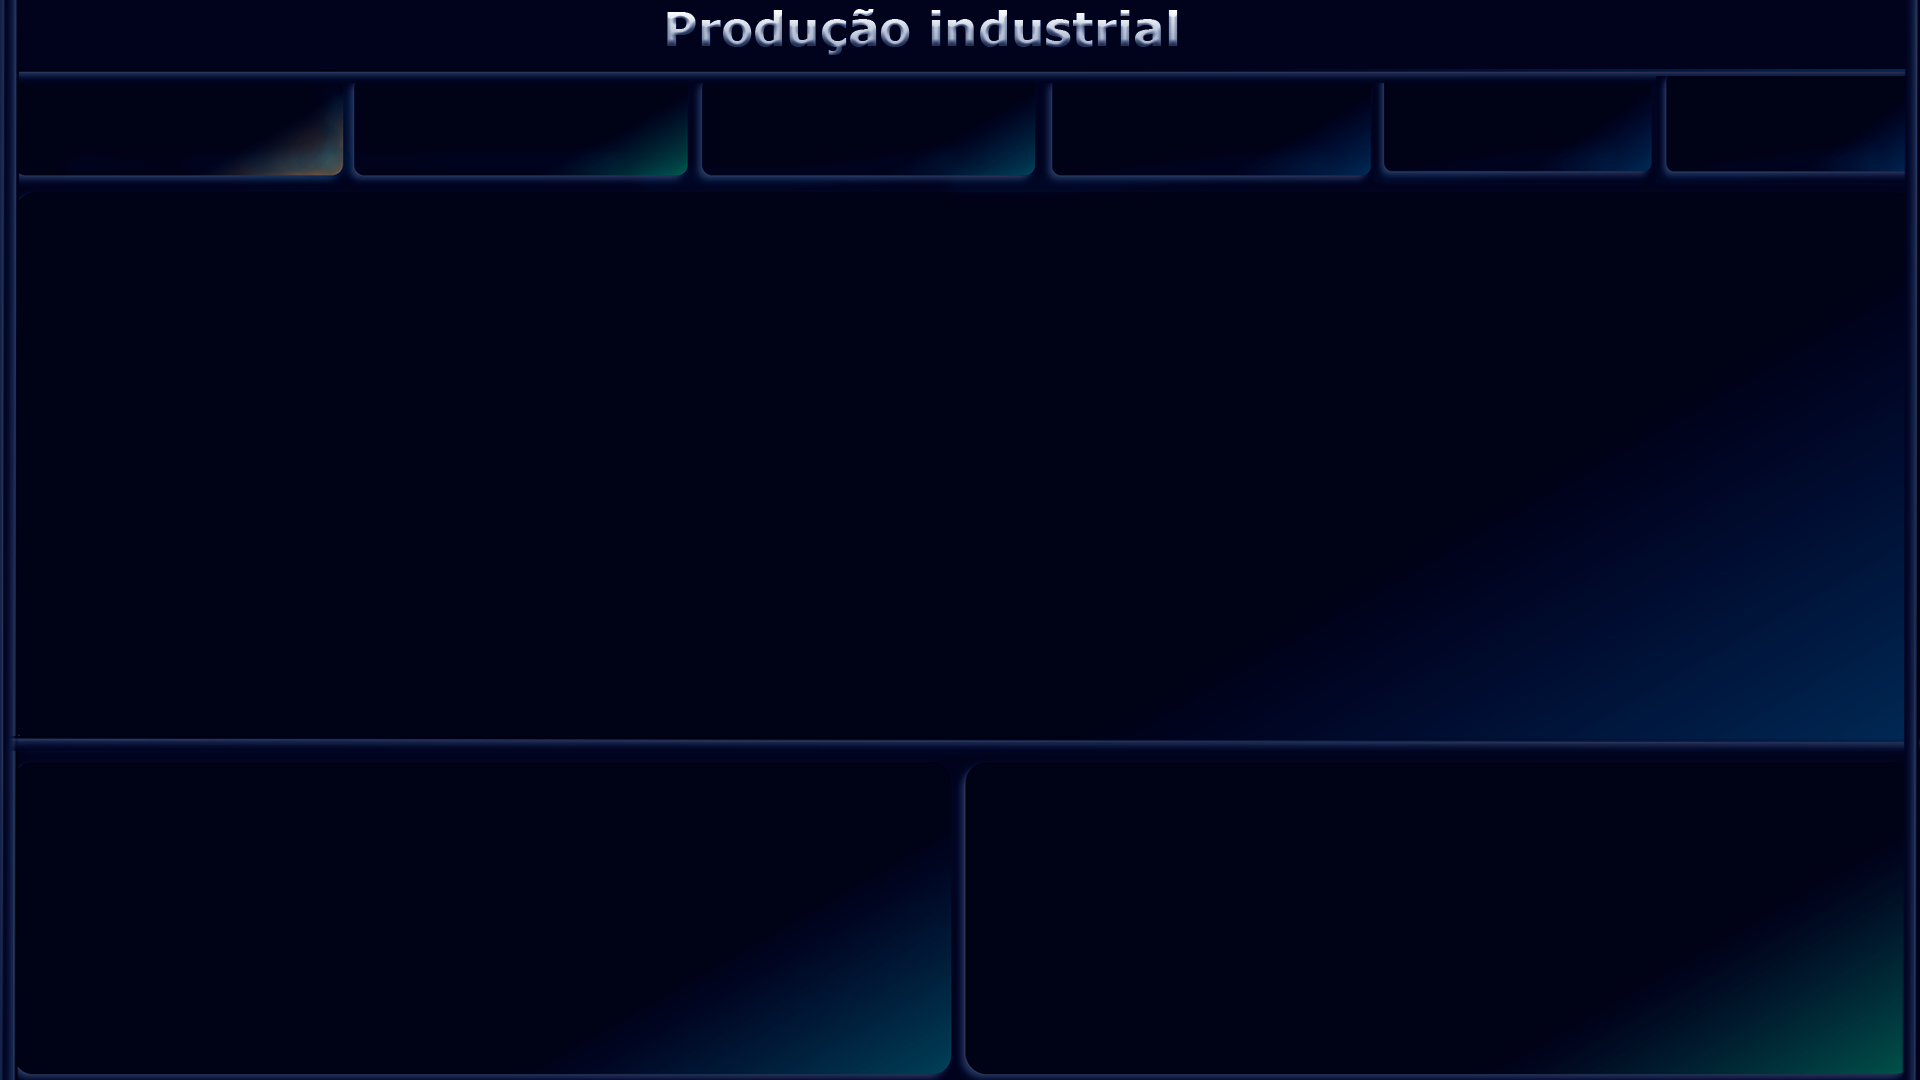

This screenshot's page, from the dashboard's own definition file:
{"tool":"powerbi","page":{"name":"Página 1","canvas":[1280,720],"ordinal":0},"visuals":[{"type":"card","title":"Qtd Rejeitadas","fields":{"Values":["BaseProdução.Total Rejeitado"]},"box":[753.8,60.3,161.6,55.5],"z":0},{"type":"card","title":"Qtd Produzido","fields":{"Values":["BaseProdução.Total Produzido"]},"box":[542.7,60.3,149.5,55.5],"z":1000},{"type":"card","title":"Horas Produtivas","fields":{"Values":["BaseProdução.Horas Produtivas"]},"box":[47,57.9,205,55.5],"z":2000},{"type":"card","title":"Horas Paradas","fields":{"Values":["BaseProdução.horas paradas"]},"box":[312.4,60.3,133.9,55.5],"z":3000},{"type":"areaChart","fields":{"Category":["BaseProdução.Data Inicio.Variation.Hierarquia de datas.Mês"],"Y":["BaseProdução.Total Produzido"]},"box":[6,152,1253.1,337.7],"z":4000},{"type":"gauge","title":"% Qualidade","fields":{"Y":["BaseProdução.% Qualidade"]},"box":[652.5,510.2,605.4,193],"z":5000},{"type":"gauge","title":"% Produtividade","fields":{"Y":["BaseProdução.% Produtividade"]},"box":[16.9,510.2,615.1,193],"z":6000},{"type":"slicer","fields":{"Values":["BaseProdução.Operador"]},"box":[929.8,53.1,164,89.2],"z":7000},{"type":"slicer","fields":{"Values":["BaseProdução.Data Inicio.Variation.Hierarquia de datas.Mês"]},"box":[1119.2,53.1,150.8,65.1],"z":8000},{"type":"image","box":[240,51.9,72.4,67.5],"z":9000},{"type":"image","box":[6,53.1,82,63.9],"z":9001},{"type":"image","box":[480,51.9,62.7,63.9],"z":9002},{"type":"image","box":[712.8,55.5,59.1,60.3],"z":9003}]}

Visuals, with their boxes in screenshot pixels (x1, y1, x2, y2), scaled from the page's 1280x720 canvas onto the 1920x1080 screenshot:
"Qtd Rejeitadas" card: locate(1131, 90, 1373, 174)
"Qtd Produzido" card: locate(814, 90, 1038, 174)
"Horas Produtivas" card: locate(70, 87, 378, 170)
"Horas Paradas" card: locate(469, 90, 669, 174)
areaChart - BaseProdução.Data Inicio.Variation.Hierarquia de datas.Mês x BaseProdução.Total Produzido: locate(9, 228, 1889, 735)
"% Qualidade" gauge: locate(979, 765, 1887, 1055)
"% Produtividade" gauge: locate(25, 765, 948, 1055)
slicer - BaseProdução.Operador: locate(1395, 80, 1641, 213)
slicer - BaseProdução.Data Inicio.Variation.Hierarquia de datas.Mês: locate(1679, 80, 1905, 177)
image: locate(360, 78, 469, 179)
image: locate(9, 80, 132, 176)
image: locate(720, 78, 814, 174)
image: locate(1069, 83, 1158, 174)
